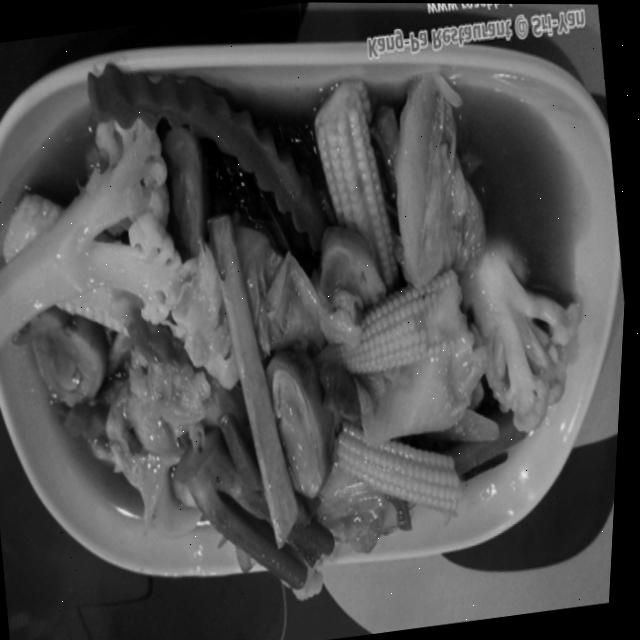蔬菜料理: (0, 28, 639, 637)
